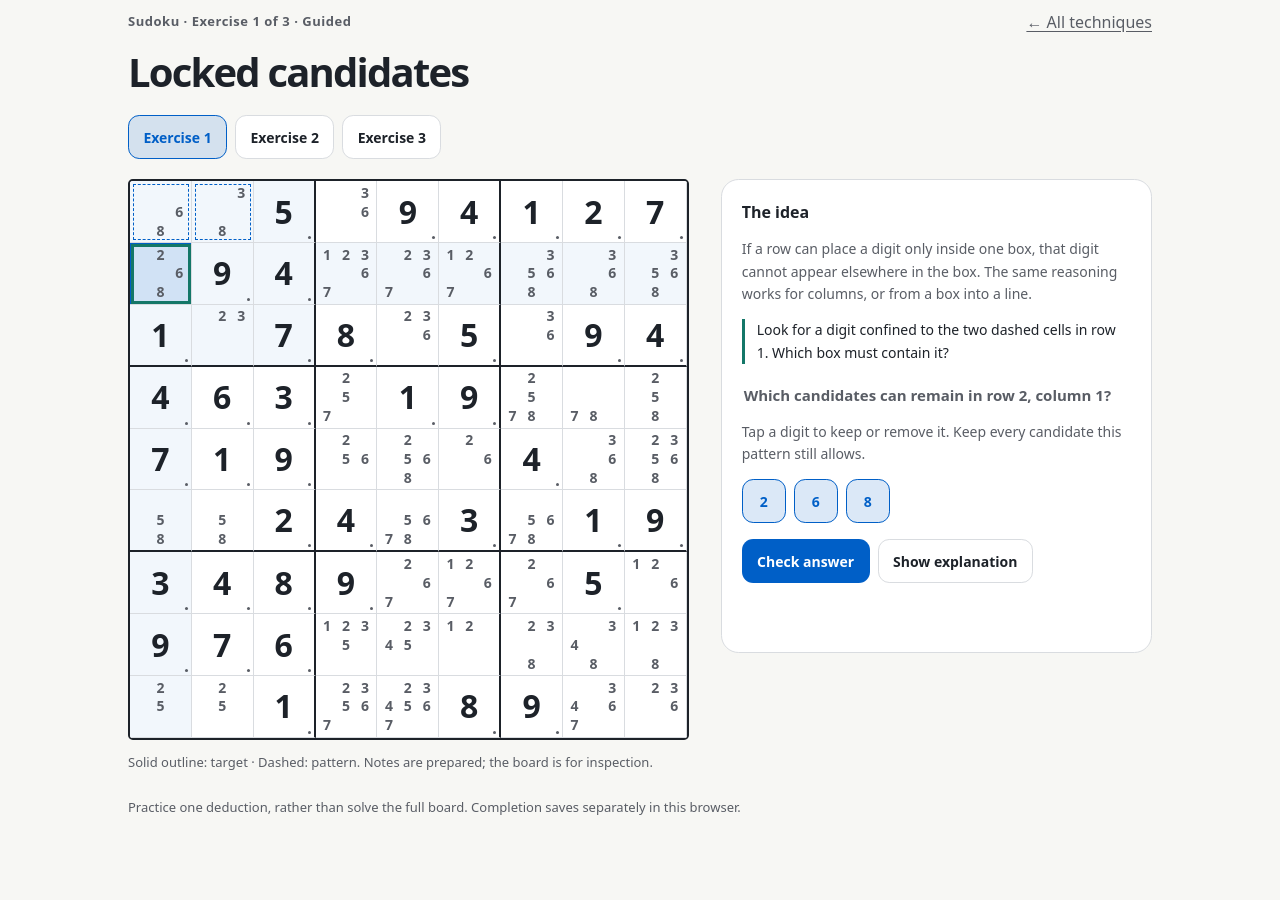
Test: teaches one deduction, rejects an unchanged answer and saves only lesson completion
Click the button "Check answer".
click(806, 561)  # box [742,539,870,583]
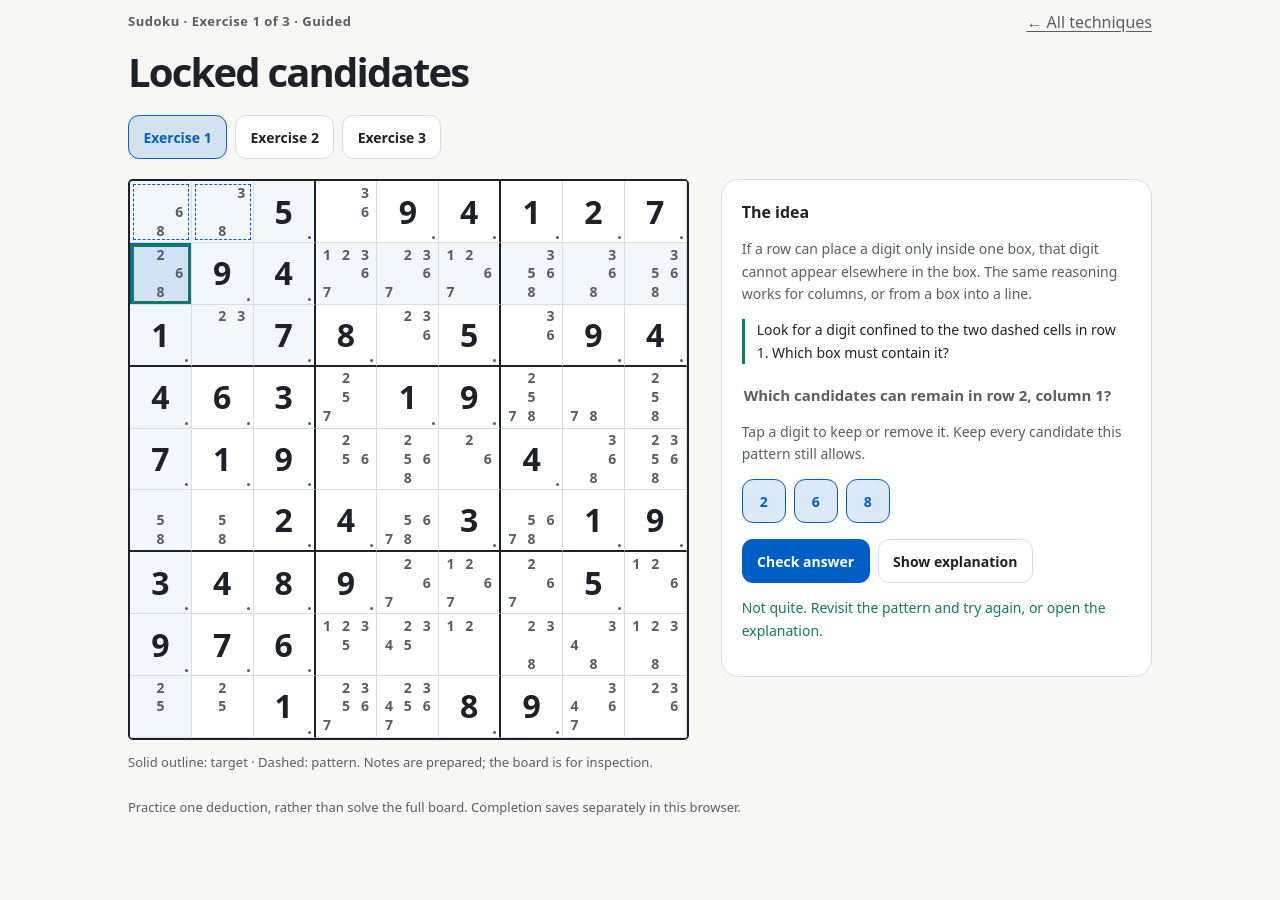
expect the message "Not quite. Revisit the pattern and try again, or open the explanation." is shown: met, box [742,597,1131,642]
Click the button "8".
click(868, 501)  # box [846,479,890,523]
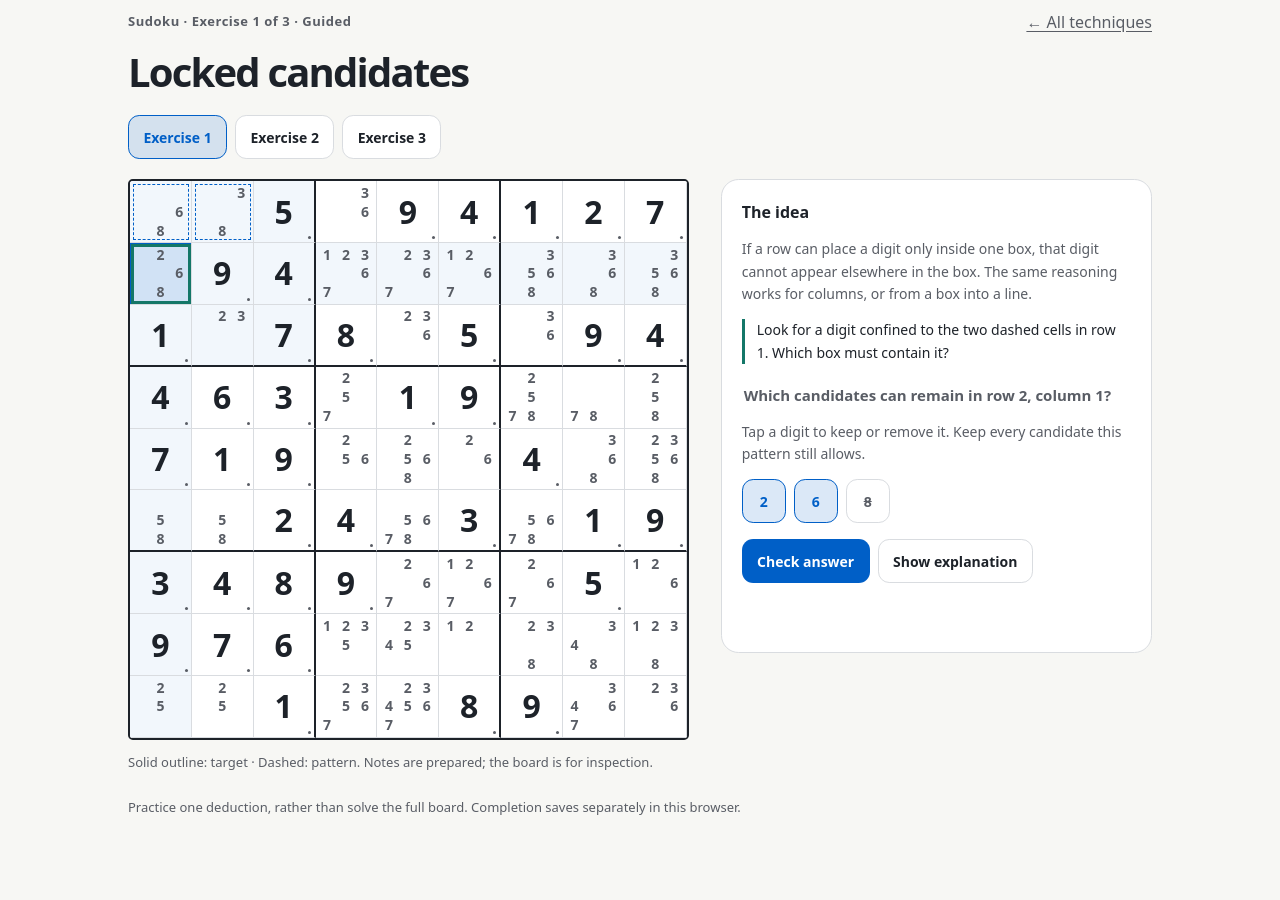
Click the button "Check answer".
click(806, 561)  # box [742,539,870,583]
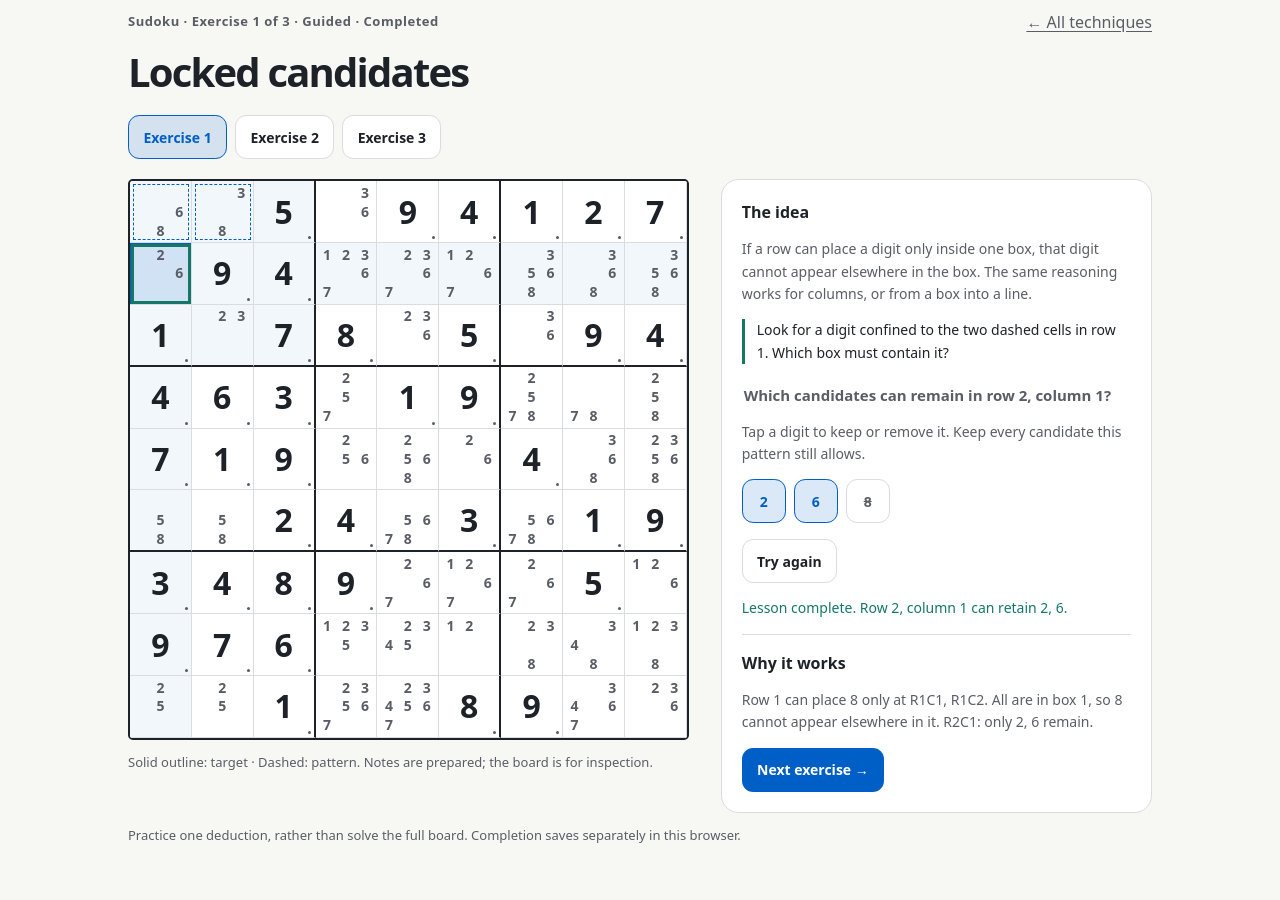
expect the message "Lesson complete. Row 2, column 1 can retain 2, 6." is shown: met, box [742,598,1068,617]
expect the text "2, 6" is shown: met, box [742,598,1068,617]
expect the link "Next exercise →" is shown: met
Click the link "Next exercise →".
click(813, 770)  # box [742,748,884,792]
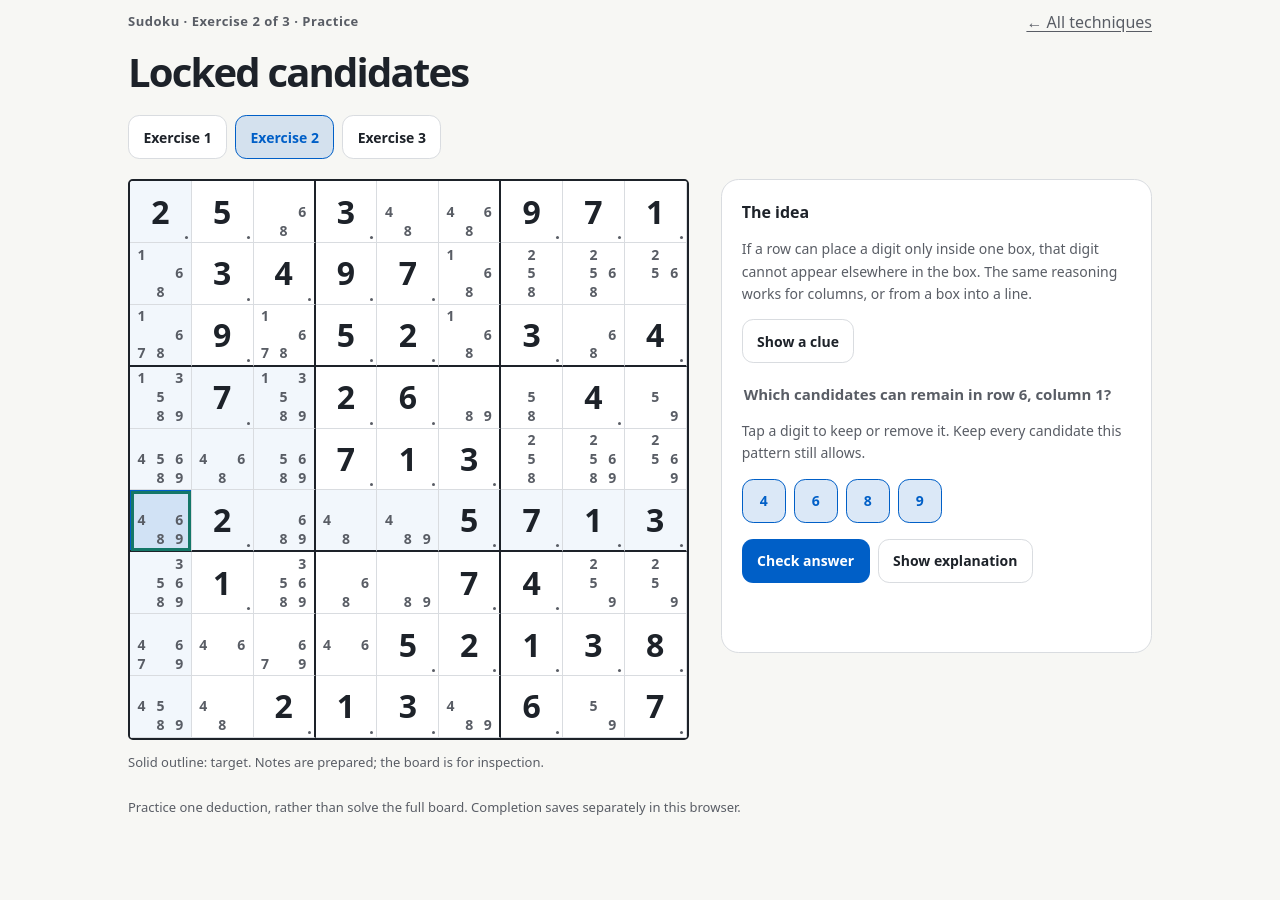
expect the heading "Locked candidates" is shown: met, box [128,44,468,99]
Click the link "← All techniques".
click(1089, 22)  # box [1026,11,1152,33]
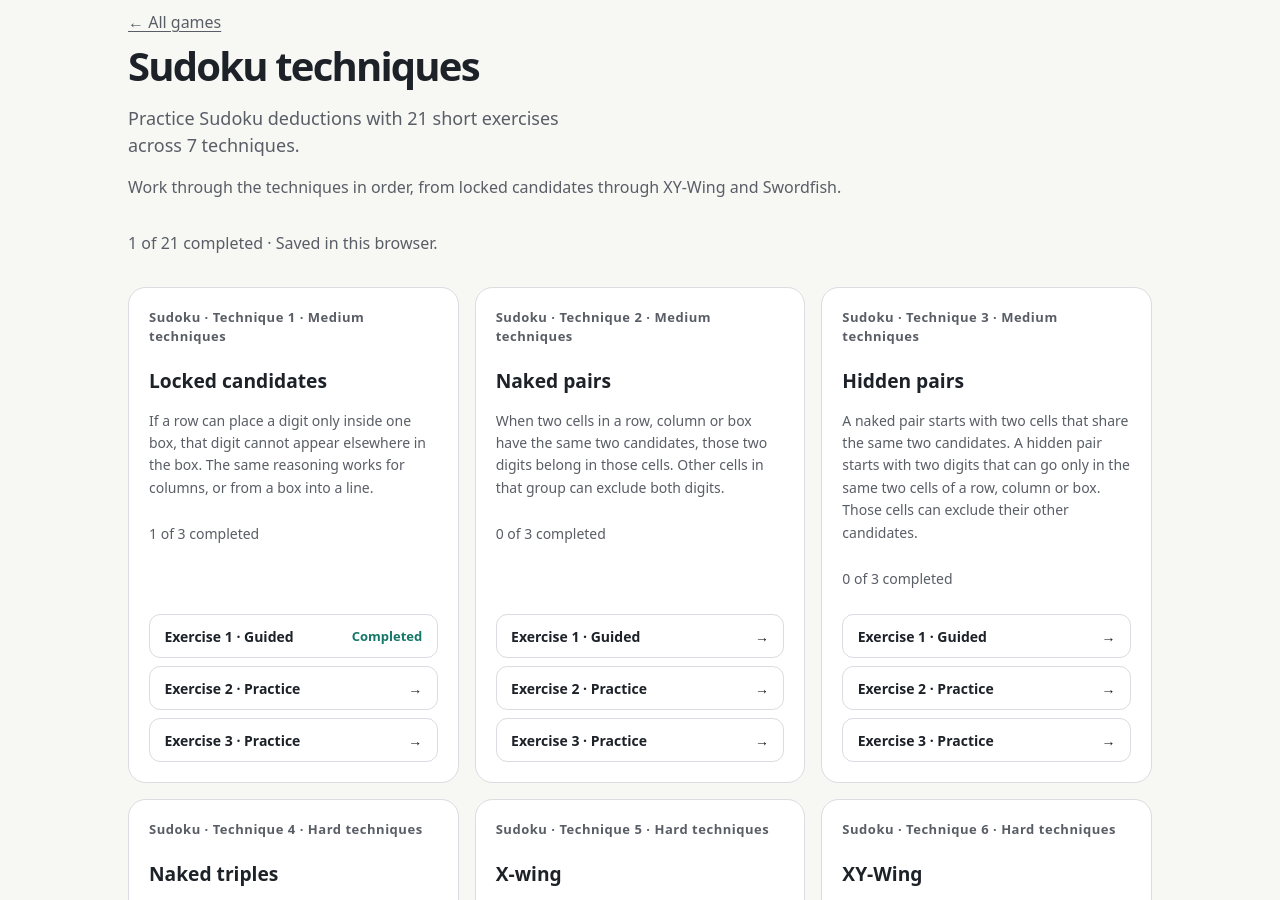
expect the text "1 of 21 completed" is shown: met, box [128,232,438,254]
